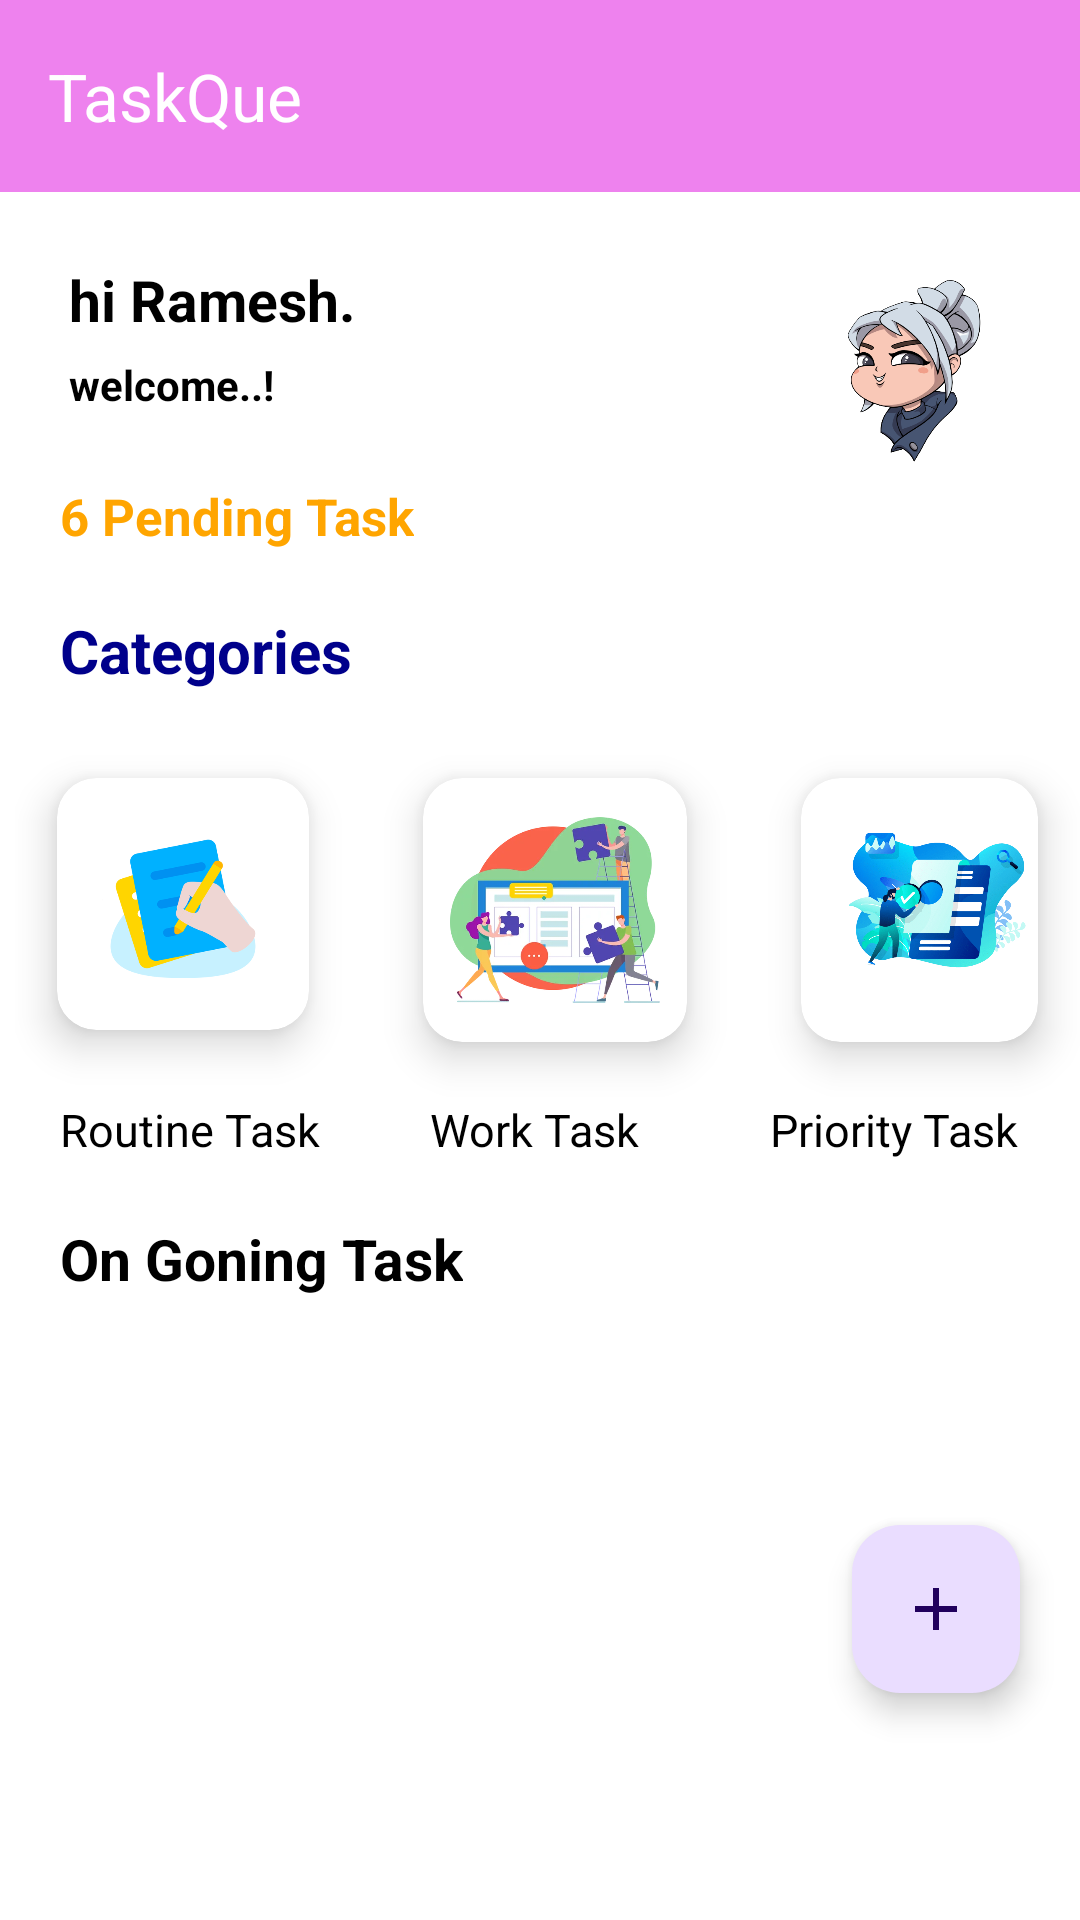

Screen size 1080 x 1920. Icon name, then its box in pixels as BBox(x1, y1, x2, y2):
add: BBox(852, 1525, 1020, 1693)
